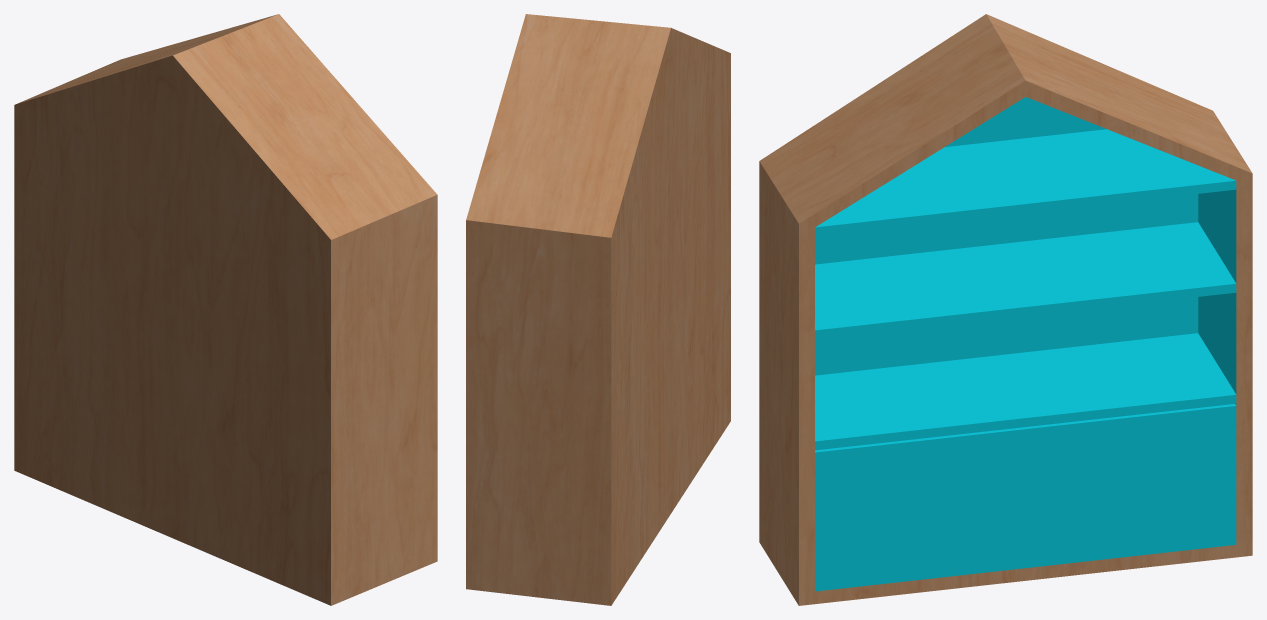
Rendered from Prop_F5_House_small.fbx.
3 views of the same model, side by side, from view 1: azimuth 30°, elevation 25°; view 2: azimuth 150°, elevation 25°; view 3: azimuth 270°, elevation 25° (orthographic). The views are drawn at different scales.
Visible parts, largest first — view 1: Prop_F5_House_Small; view 2: Prop_F5_House_Small; view 3: Prop_F5_House_Small.
Boxes of the visible parts, left/top/right/bottom form: Prop_F5_House_Small: left=14, top=14, right=437, bottom=605; Prop_F5_House_Small: left=466, top=14, right=730, bottom=605; Prop_F5_House_Small: left=759, top=14, right=1252, bottom=605.
Bounding box in the file's own units: 89.41 × 184 × 163.
2 materials, 1 textured.
